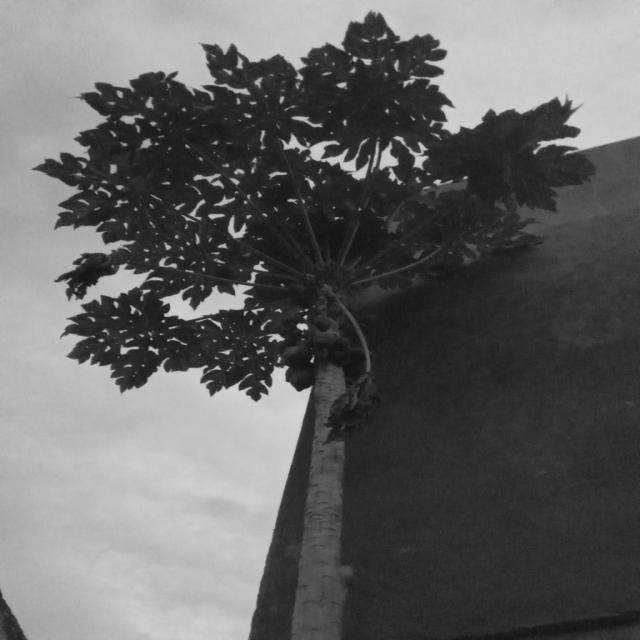Papaya-Tree: (61, 26, 577, 640)
